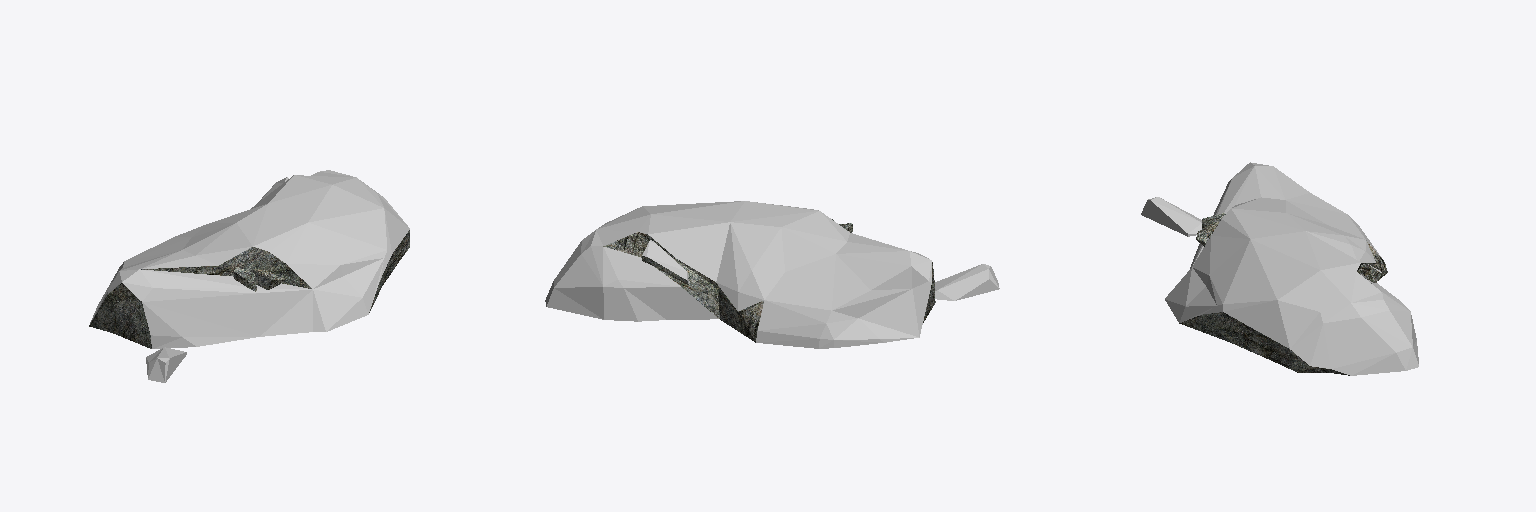
The picture shows the model from 3 angles: view 1: azimuth 30°, elevation 25°; view 2: azimuth 150°, elevation 25°; view 3: azimuth 270°, elevation 25°; orthographic projection.
Visible parts, largest first — view 1: outcropA; view 2: outcropA; view 3: outcropA.
Part boxes in pixels (x1,y1,x2,y2): outcropA: (89, 170, 409, 382); outcropA: (545, 201, 999, 348); outcropA: (1141, 162, 1418, 375).
Size of the model in its own units: 31.9 by 6.66 by 22.67.
2 materials, 1 textured.